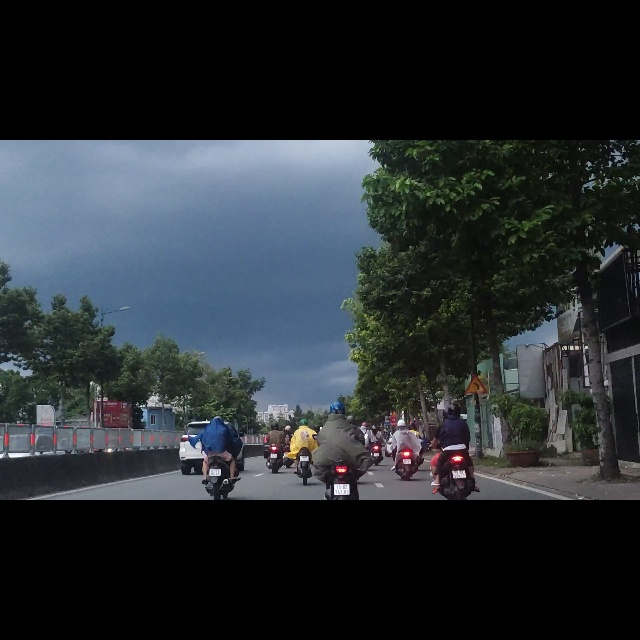bien_nguy_hiem: (464, 415, 488, 450)
